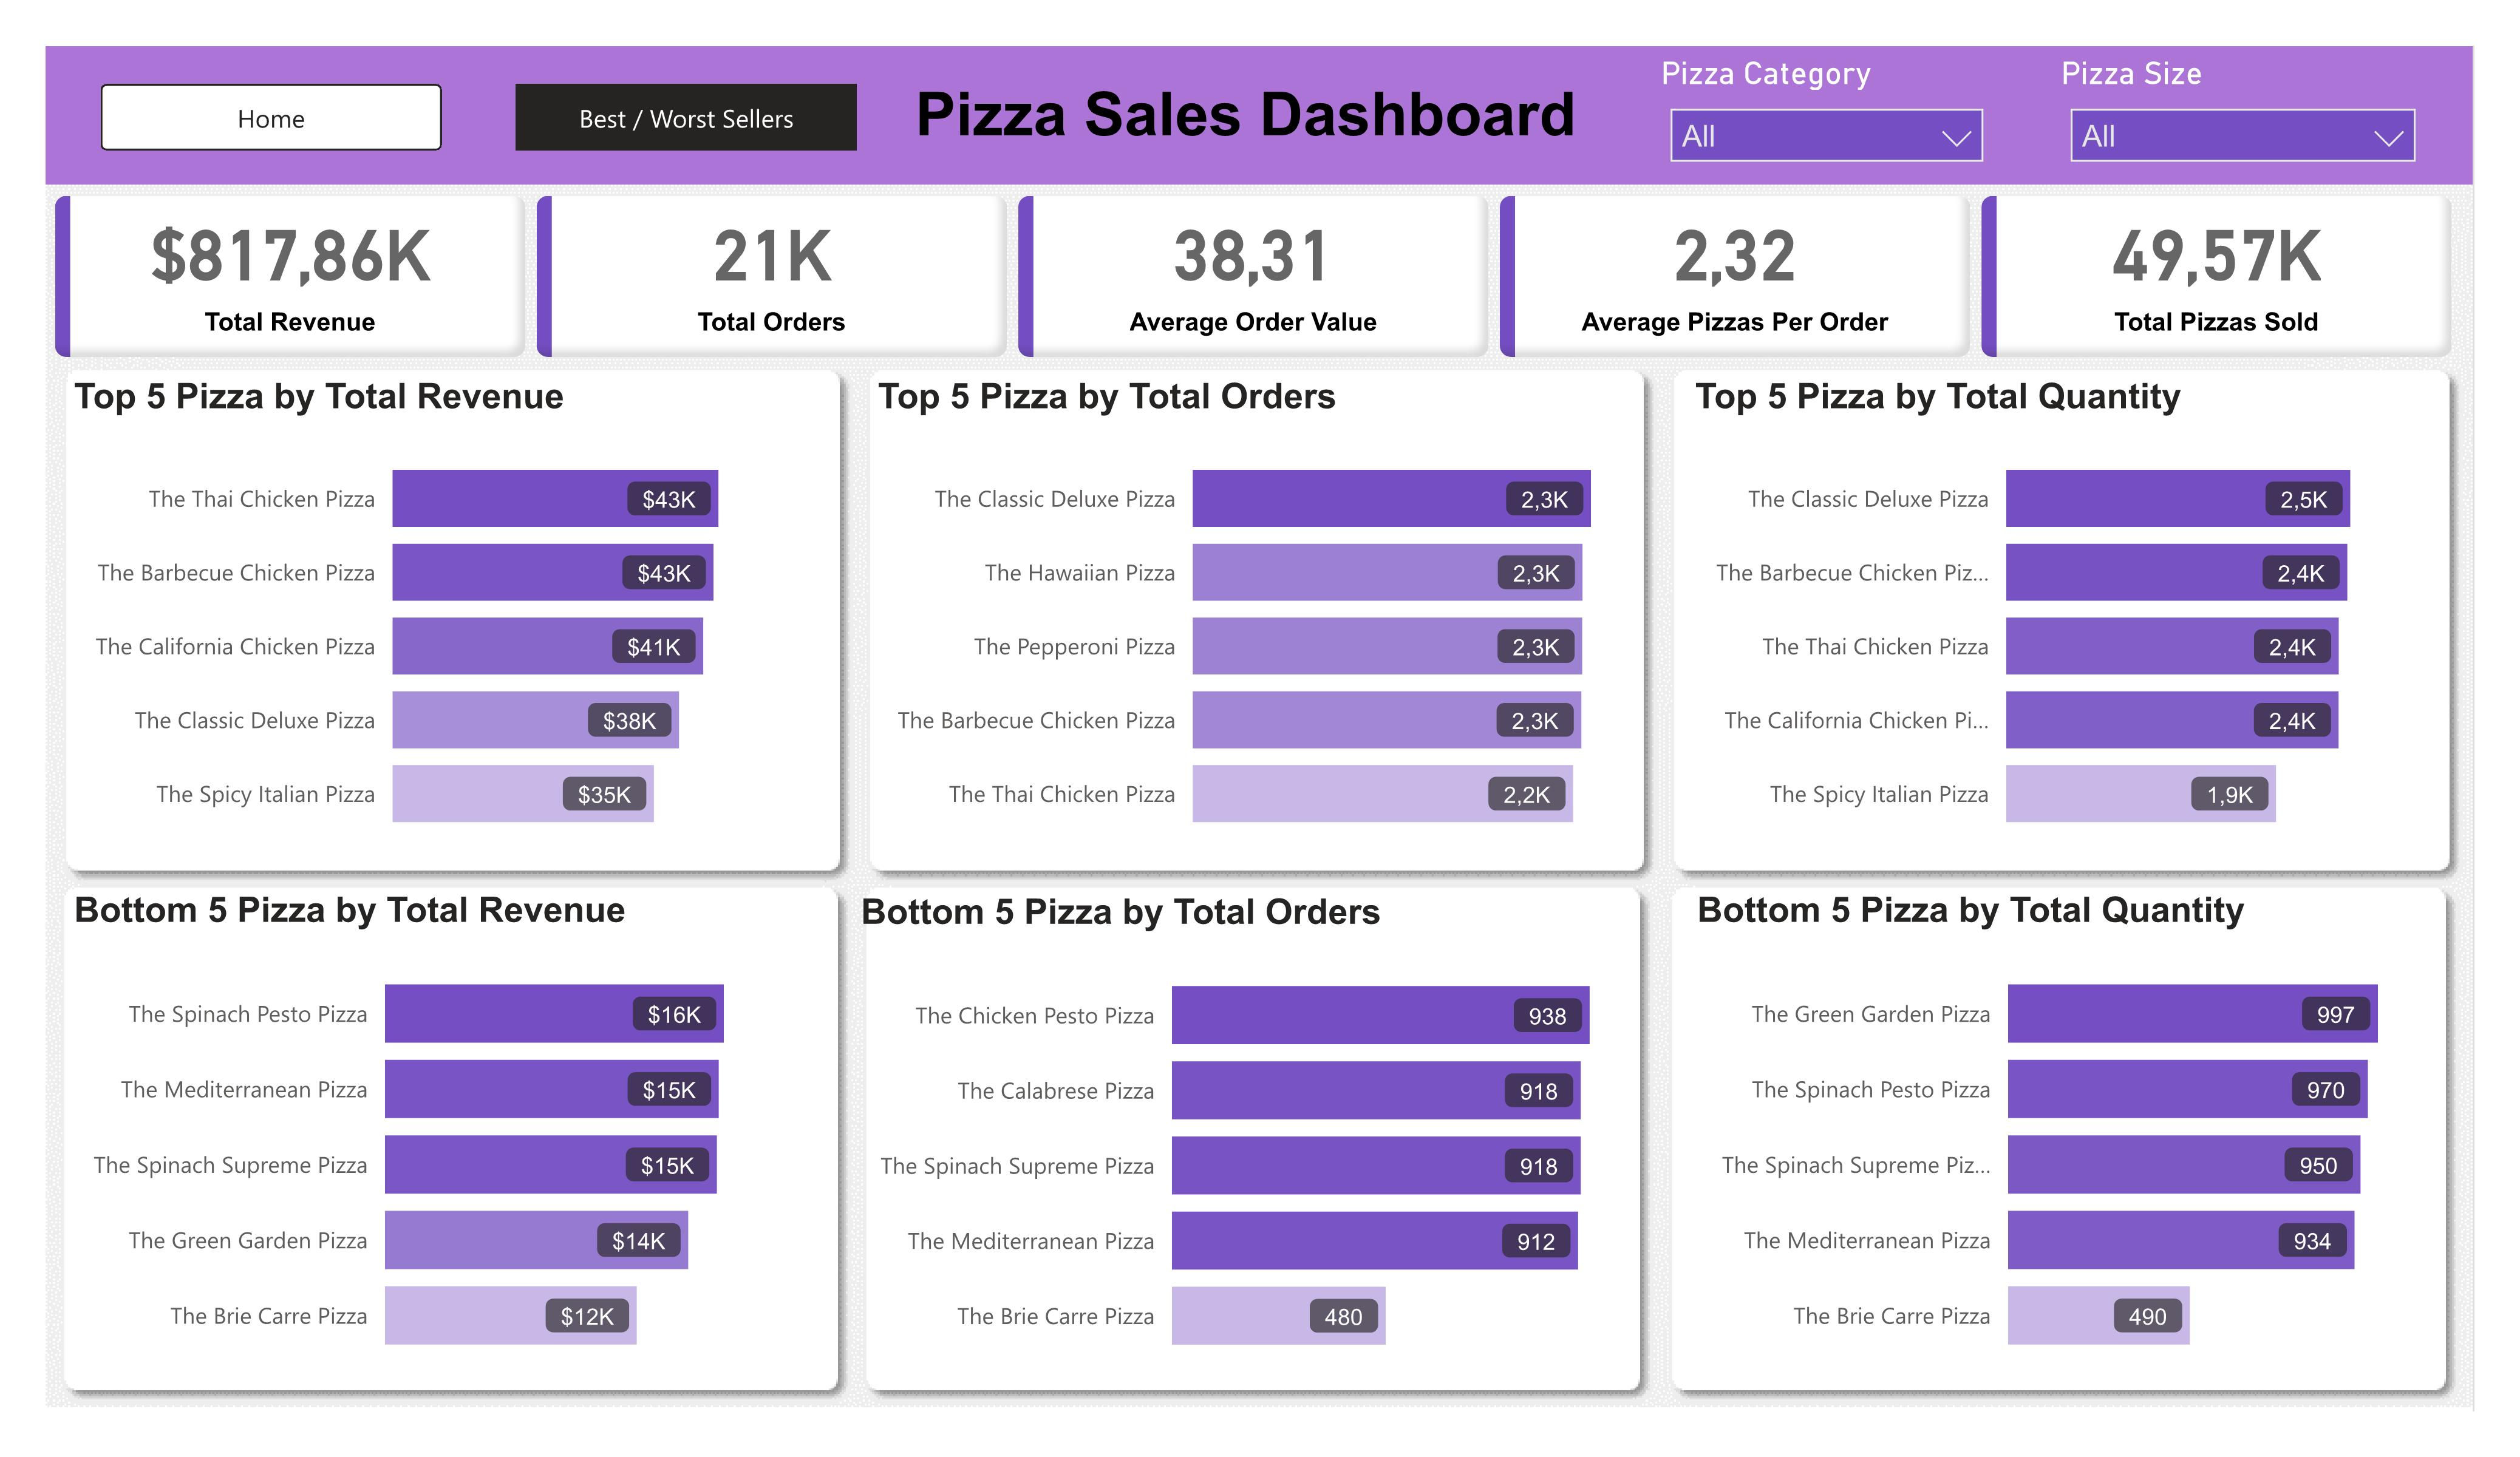

The page's visual inventory and layout, read from the dashboard file:
{"tool":"powerbi","page":{"name":"Best / Worst Sellers","canvas":[1280,720],"ordinal":1},"visuals":[{"type":"cardVisual","fields":{"Data":["All Measures.Total Revenue","All Measures.Total Orders","All Measures.Average Order Value","All Measures.Average Pizzas Per Order","All Measures.Total Pizzas Sold"]},"box":[0,73.7,1278.4,95],"z":0},{"type":"textbox","box":[443.5,13,378.7,50.4],"z":1000},{"type":"clusteredBarChart","title":"Top 5 Pizza by Total Revenue","fields":{"Y":["All Measures.Total Revenue"],"Category":["Pizza Sales.pizza_name"]},"box":[9.9,174.3,405.4,256.5],"z":2000},{"type":"slicer","title":"Pizza Category","fields":{"Values":["Pizza Sales.pizza_category"]},"box":[846.7,4.3,185.8,63.4],"z":3000},{"type":"slicer","title":"Pizza  Size","fields":{"Values":["Pizza Sales.pizza_size"]},"box":[1058.4,4.3,201.6,63.4],"z":4000},{"type":"clusteredBarChart","title":"Top 5 Pizza by Total Orders","fields":{"Category":["Pizza Sales.pizza_name"],"Y":["All Measures.Total Orders"]},"box":[433.7,174.3,412.4,256.5],"z":5000},{"type":"clusteredBarChart","title":"Top 5 Pizza by Total Quantity","fields":{"Category":["Pizza Sales.pizza_name"],"Y":["All Measures.Total Pizzas Sold"]},"box":[864.6,174.3,395.4,256.5],"z":6000},{"type":"pageNavigator","box":[28.8,20.2,180,34.6],"z":7000},{"type":"pageNavigator","box":[247.7,19.7,180,35],"z":8000},{"type":"clusteredBarChart","title":"Bottom 5 Pizza by Total Revenue","fields":{"Y":["All Measures.Total Revenue"],"Category":["Pizza Sales.pizza_name"]},"box":[9.9,445,405.4,262.2],"z":8001},{"type":"clusteredBarChart","title":"Bottom 5 Pizza by Total Orders","fields":{"Category":["Pizza Sales.pizza_name"],"Y":["All Measures.Total Orders"]},"box":[425.2,446.5,420.9,260.8],"z":8002},{"type":"clusteredBarChart","title":"Bottom 5 Pizza by Total Quantity","fields":{"Category":["Pizza Sales.pizza_name"],"Y":["All Measures.Total Pizzas Sold"]},"box":[866,445,394,262.2],"z":8003}]}

Visuals, with their boxes on the page's 1280x720 design canvas (x1, y1, x2, y2). These are canvas units, not pixel positions in the 2520x1457 screenshot, which may show the page scaled, cropped or inside an application window:
cardVisual - All Measures.Total Revenue x All Measures.Total Orders: BBox(0, 74, 1278, 169)
textbox: BBox(444, 13, 822, 63)
"Top 5 Pizza by Total Revenue" clusteredBarChart: BBox(10, 174, 415, 431)
"Pizza Category" slicer: BBox(847, 4, 1032, 68)
"Pizza  Size" slicer: BBox(1058, 4, 1260, 68)
"Top 5 Pizza by Total Orders" clusteredBarChart: BBox(434, 174, 846, 431)
"Top 5 Pizza by Total Quantity" clusteredBarChart: BBox(865, 174, 1260, 431)
pageNavigator: BBox(29, 20, 209, 55)
pageNavigator: BBox(248, 20, 428, 55)
"Bottom 5 Pizza by Total Revenue" clusteredBarChart: BBox(10, 445, 415, 707)
"Bottom 5 Pizza by Total Orders" clusteredBarChart: BBox(425, 446, 846, 707)
"Bottom 5 Pizza by Total Quantity" clusteredBarChart: BBox(866, 445, 1260, 707)
